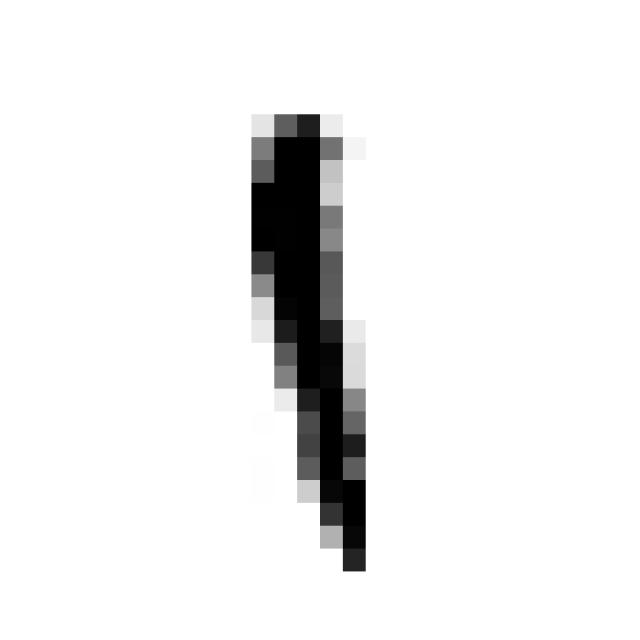1 -one-: (220, 89, 386, 589)
